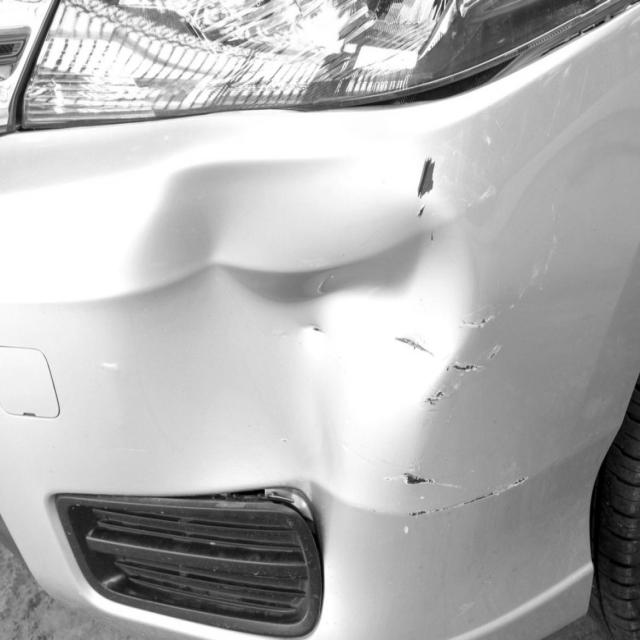dent: (115, 162, 481, 518)
misalignment: (194, 488, 325, 610)
scratch: (384, 202, 561, 519), (414, 157, 436, 244), (312, 324, 326, 336)
